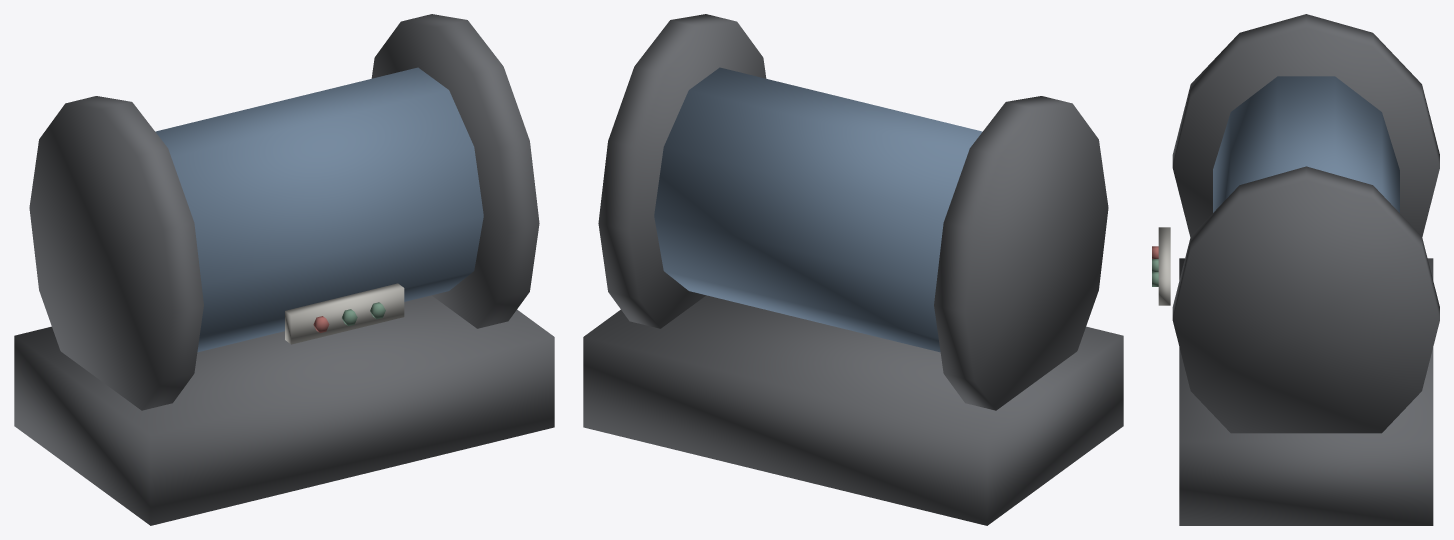
The model's file is bench_grinder__tall.glb.
3 views of the same model, side by side, from view 1: azimuth 30°, elevation 25°; view 2: azimuth 150°, elevation 25°; view 3: azimuth 270°, elevation 25° (orthographic). The views are drawn at different scales.
Parts seen in each view (by area): view 1: world; view 2: world; view 3: world.
Part boxes in pixels (x1,y1,x2,y2): world: (14,14,554,525); world: (583,14,1123,525); world: (1152,14,1439,525).
Size of the model in its own units: 0.65 by 0.5568 by 0.431.
